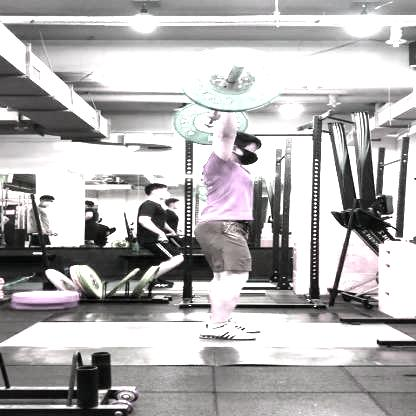Barbell: (229, 59, 249, 70)
